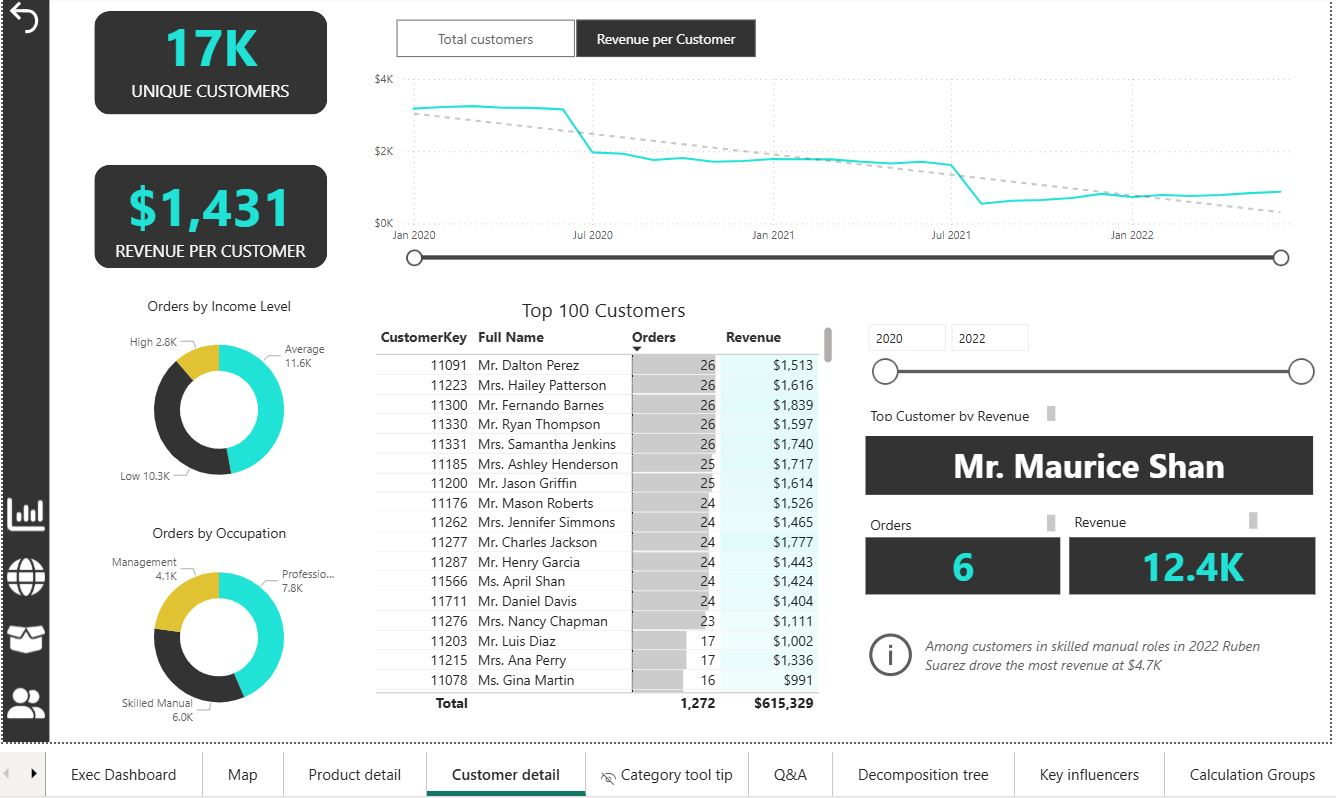

The page's visual inventory and layout, read from the dashboard file:
{"tool":"powerbi","page":{"name":"Customer detail","canvas":[1280,720],"ordinal":3},"visuals":[{"type":"shape","box":[0,0,45,720],"z":0},{"type":"actionButton","box":[0,475.9,44.5,48.4],"z":0,"group":"g1"},{"type":"shape","box":[87.5,15,225,100],"z":1000},{"type":"actionButton","box":[0,536.5,44.5,48.4],"z":1000,"group":"g1"},{"type":"shape","box":[87.5,162.5,225,100],"z":2000},{"type":"actionButton","box":[0,597.1,44.5,48.4],"z":2000,"group":"g1"},{"type":"card","fields":{"Values":["Measure Table.Total customers"]},"box":[98.8,0,202.5,115],"z":3000},{"type":"actionButton","box":[0,657.8,44.5,48.4],"z":3000,"group":"g1"},{"type":"card","fields":{"Values":["Measure Table.Average Revenue per Customer"]},"box":[98.8,155,202.5,115],"z":4000},{"type":"lineChart","fields":{"Y":["Measure Table.Average Revenue per Customer"],"Category":["Calendar Lookup.Date Hierarchy.Start of Year","Calendar Lookup.Date Hierarchy.Start of Month","Calendar Lookup.Date Hierarchy.Start of Week","Calendar Lookup.Date Hierarchy.Date"]},"box":[354.1,65.8,905.4,197.3],"z":5000},{"type":"donutChart","title":"Orders by Income Level","fields":{"Y":["Measure Table.Total Orders"],"Category":["Customer Lookup.Income Level"]},"box":[87.5,290,241.2,202.5],"z":6000},{"type":"donutChart","title":"Orders by Occupation","fields":{"Y":["Measure Table.Total Orders"],"Category":["Customer Lookup.Occupation"]},"box":[87.5,508.8,241.2,202.5],"z":7000},{"type":"tableEx","title":"Top 100 Customers","fields":{"Values":["Customer Lookup.CustomerKey","Customer Lookup.Full Name","Measure Table.Total Orders","Measure Table.Total Revenue"]},"box":[353.8,290,452.5,406.2],"z":8000},{"type":"card","fields":{"Values":["Measure Table.Full Name (Customer Detail)"]},"box":[832.4,424.7,431.9,56.7],"z":9000},{"type":"card","fields":{"Values":["Measure Table.Total Orders (Customer Detail)"]},"box":[832.4,522.4,188.2,55.5],"z":10000},{"type":"card","fields":{"Values":["Measure Table.Total Revenue (Customer Detail)"]},"box":[1029.1,522.4,237.7,55.5],"z":11000},{"type":"textbox","box":[832.4,390.9,188.2,24.1],"z":12000},{"type":"textbox","box":[1029.1,493.4,187,26.5],"z":13000},{"type":"textbox","box":[832.4,495.8,188.2,26.5],"z":14000},{"type":"slicer","fields":{"Values":["Calendar Lookup.Year"]},"box":[822.8,306.4,451.2,84.5],"z":15000},{"type":"actionButton","box":[830.6,609.7,428.6,53.2],"z":16000},{"type":"actionButton","box":[0,0,44.6,41],"z":17000},{"type":"group","id":"g1","title":"Navigation buttons","box":[0,475.9,44.5,230.2],"z":18000},{"type":"slicer","fields":{"Values":["Customer metric selection.Customer metric selection"]},"box":[354.1,15.5,396.6,50.3],"z":20000}]}

Visuals, with their boxes on the page's 1280x720 design canvas (x1, y1, x2, y2). These are canvas units, not pixel positions in the 1336x798 screenshot, which may show the page scaled, cropped or inside an application window:
shape: [left=0, top=0, right=45, bottom=720]
actionButton: [left=0, top=476, right=44, bottom=524]
shape: [left=88, top=15, right=312, bottom=115]
actionButton: [left=0, top=536, right=44, bottom=585]
shape: [left=88, top=162, right=312, bottom=262]
actionButton: [left=0, top=597, right=44, bottom=646]
card - Measure Table.Total customers: [left=99, top=0, right=301, bottom=115]
actionButton: [left=0, top=658, right=44, bottom=706]
card - Measure Table.Average Revenue per Customer: [left=99, top=155, right=301, bottom=270]
lineChart - Measure Table.Average Revenue per Customer x Calendar Lookup.Date Hierarchy.Start of Year: [left=354, top=66, right=1260, bottom=263]
"Orders by Income Level" donutChart: [left=88, top=290, right=329, bottom=492]
"Orders by Occupation" donutChart: [left=88, top=509, right=329, bottom=711]
"Top 100 Customers" tableEx: [left=354, top=290, right=806, bottom=696]
card - Measure Table.Full Name (Customer Detail): [left=832, top=425, right=1264, bottom=481]
card - Measure Table.Total Orders (Customer Detail): [left=832, top=522, right=1021, bottom=578]
card - Measure Table.Total Revenue (Customer Detail): [left=1029, top=522, right=1267, bottom=578]
textbox: [left=832, top=391, right=1021, bottom=415]
textbox: [left=1029, top=493, right=1216, bottom=520]
textbox: [left=832, top=496, right=1021, bottom=522]
slicer - Calendar Lookup.Year: [left=823, top=306, right=1274, bottom=391]
actionButton: [left=831, top=610, right=1259, bottom=663]
actionButton: [left=0, top=0, right=45, bottom=41]
"Navigation buttons" group: [left=0, top=476, right=44, bottom=706]
slicer - Customer metric selection.Customer metric selection: [left=354, top=16, right=751, bottom=66]
